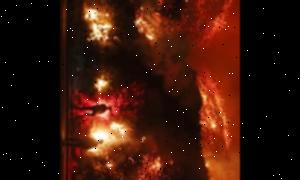fire: (112, 0, 240, 180), (78, 0, 116, 46)
